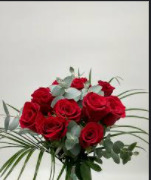RedRose: (18, 96, 46, 134), (80, 91, 111, 121), (52, 97, 84, 123), (81, 122, 112, 146)
